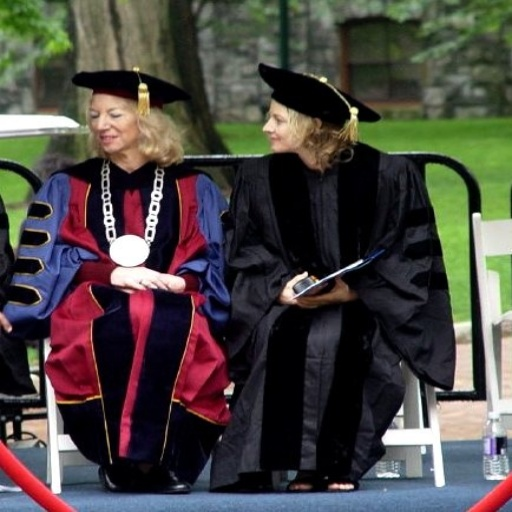hand: (293, 272, 350, 309), (112, 263, 175, 291), (273, 268, 310, 305), (161, 272, 186, 292)
